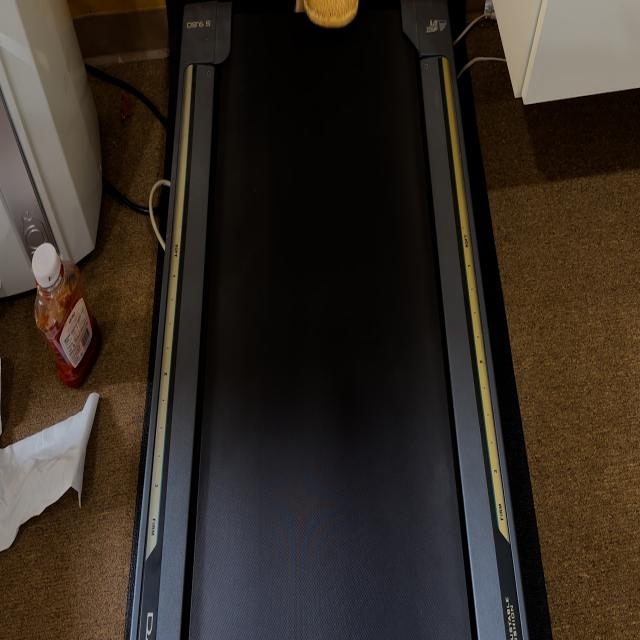Trash: (290, 0, 370, 42)
